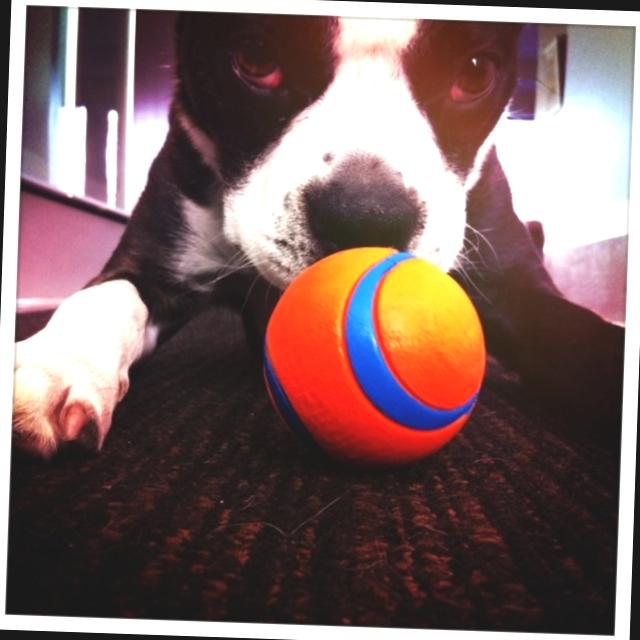Tennis Ball: (254, 240, 484, 477)
